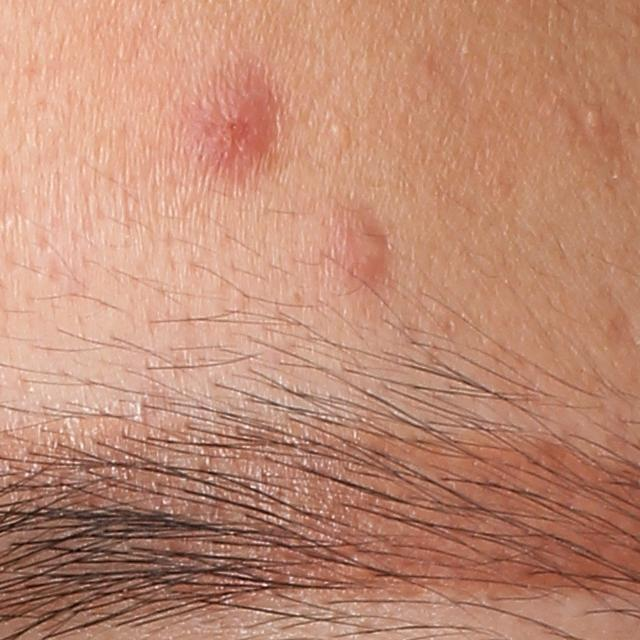comedo: (324, 118, 362, 146), (585, 108, 605, 134)
papule: (196, 77, 269, 169), (325, 207, 402, 289)
